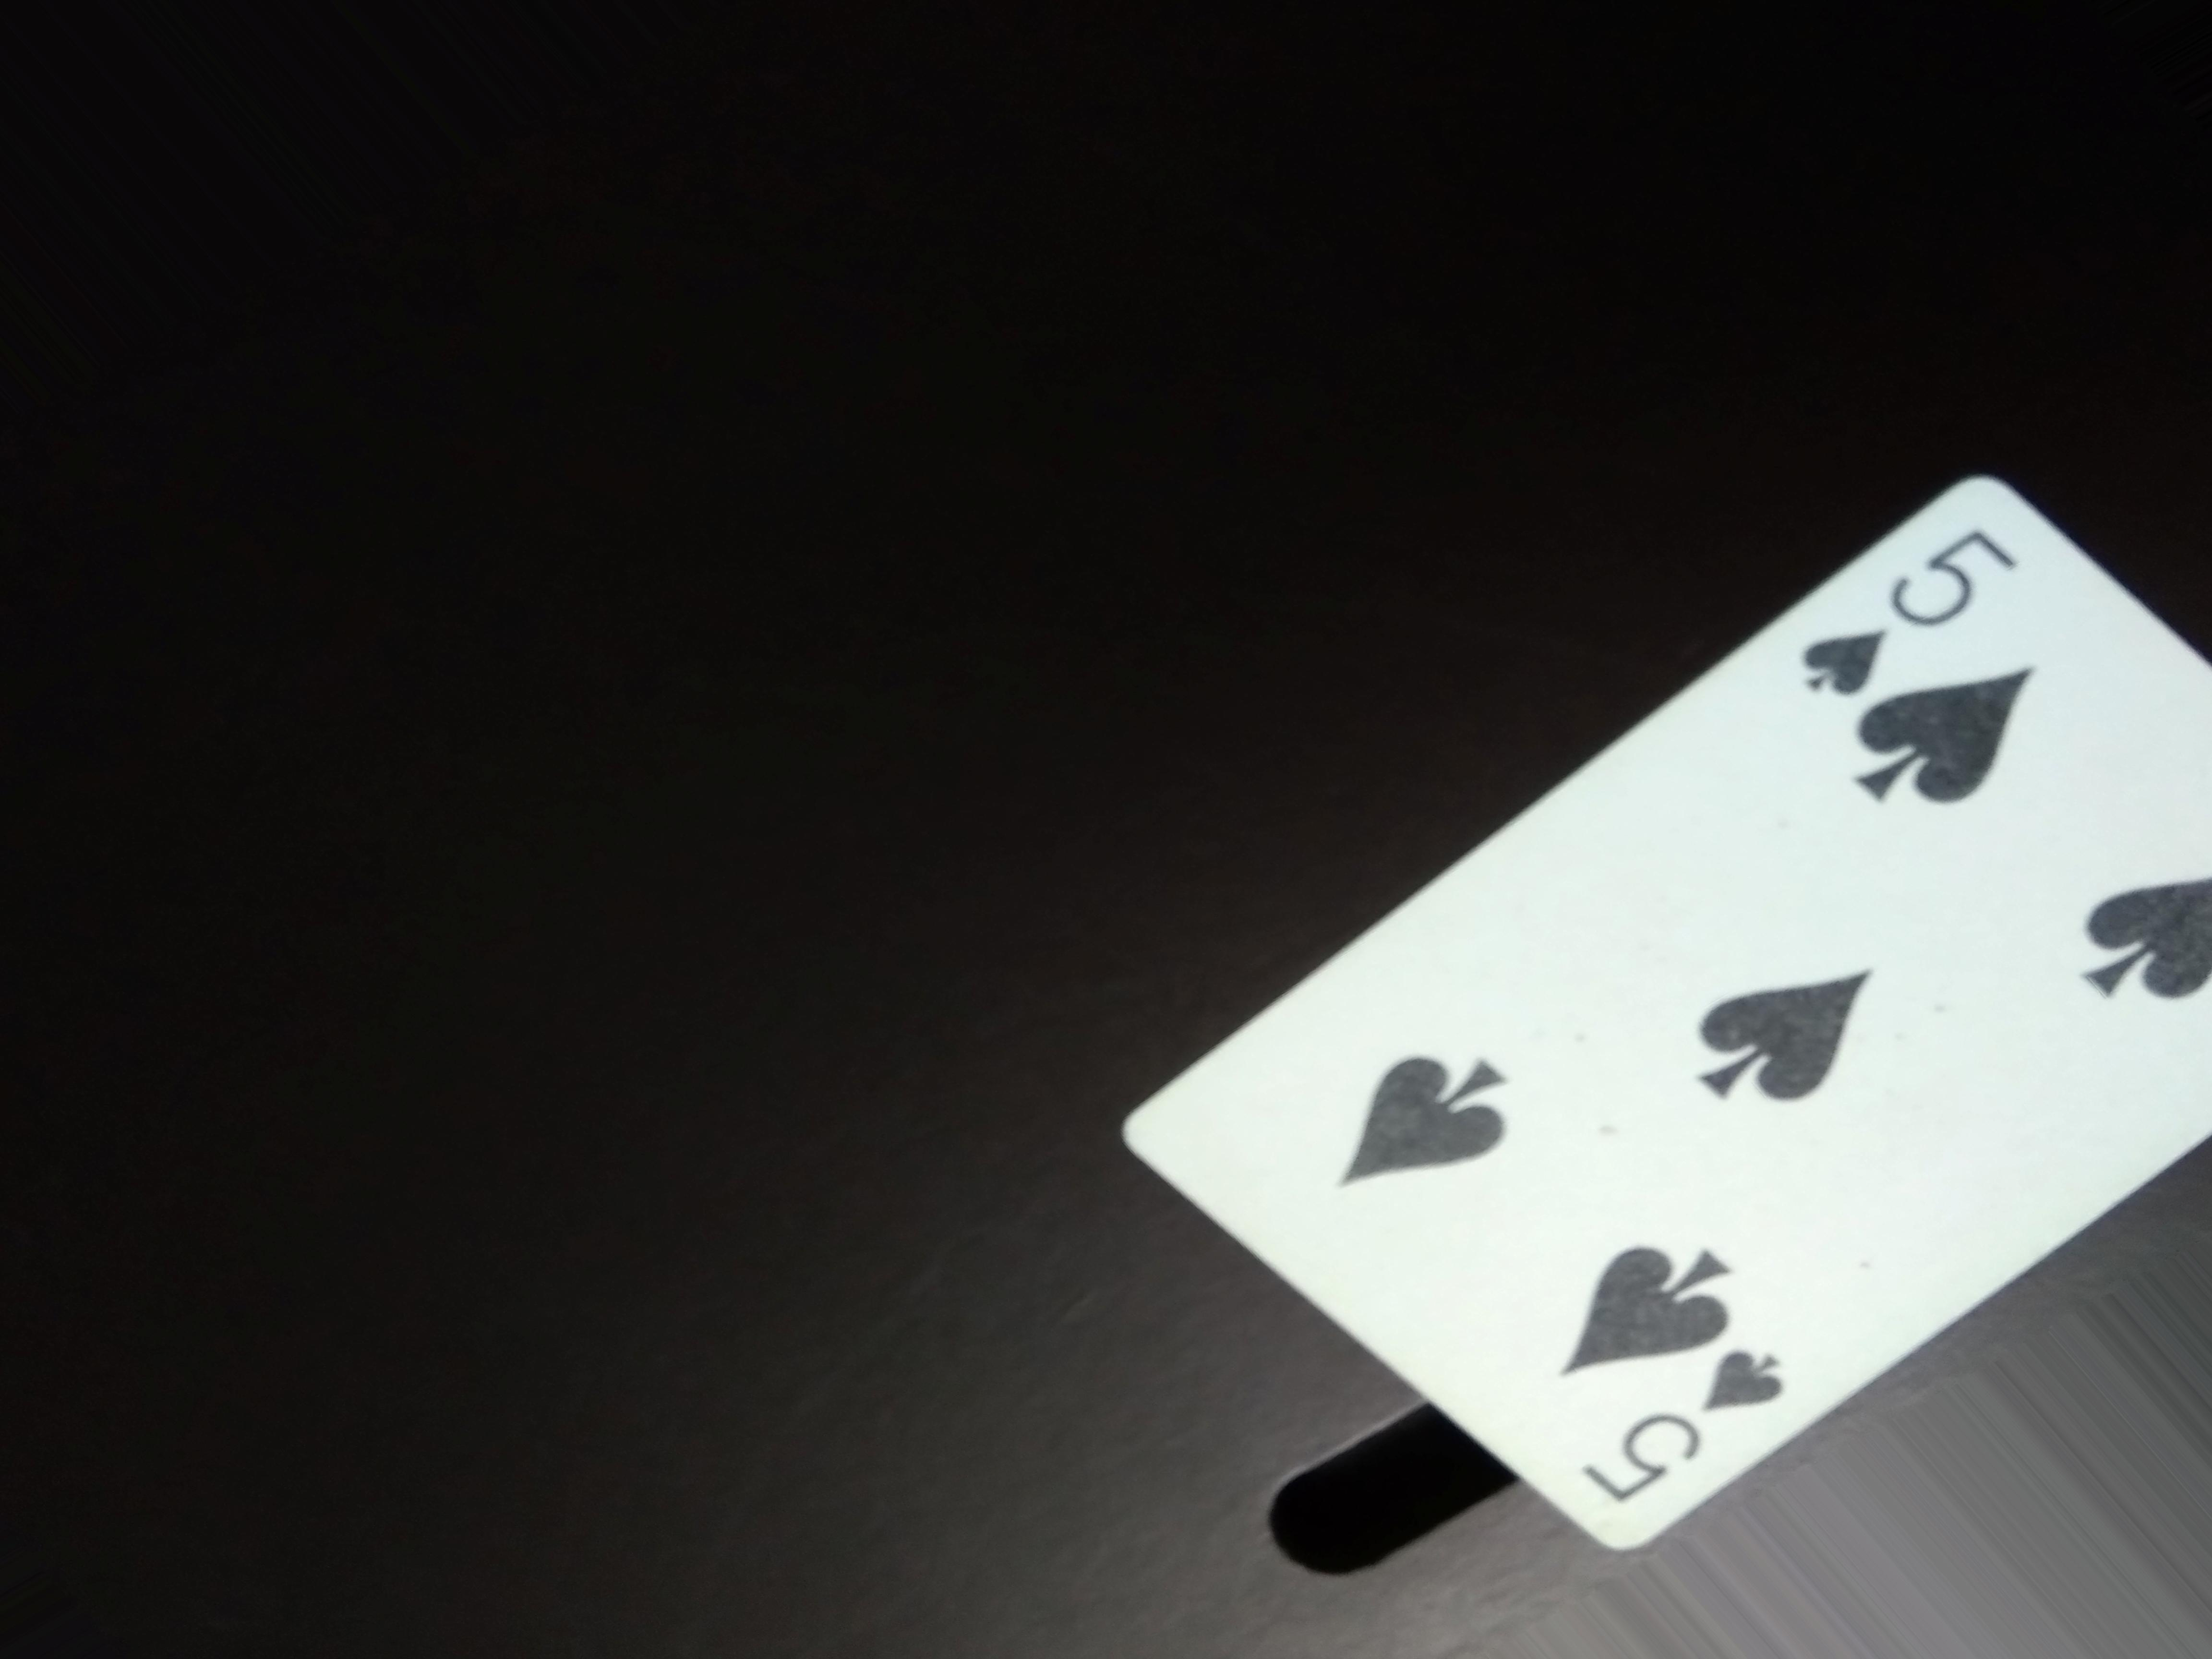5S: (1587, 1338, 1803, 1514)
